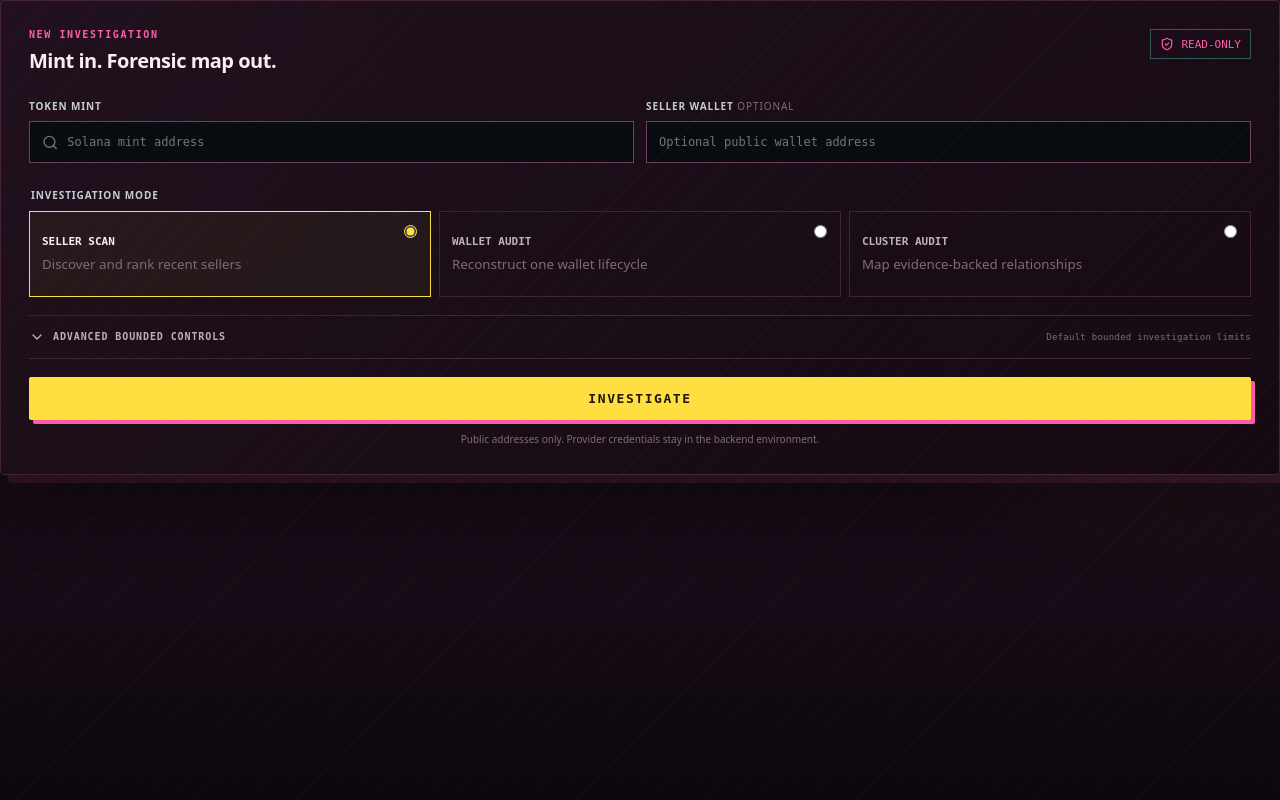
Test: investigation controls › keeps advanced limits collapsed and labels wallet input by mode
expect the text "Default bounded investigation limits" is shown: met, box [1046,333,1251,342]
Click the text "wallet audit" at (492, 242), box [452,235,532,248]
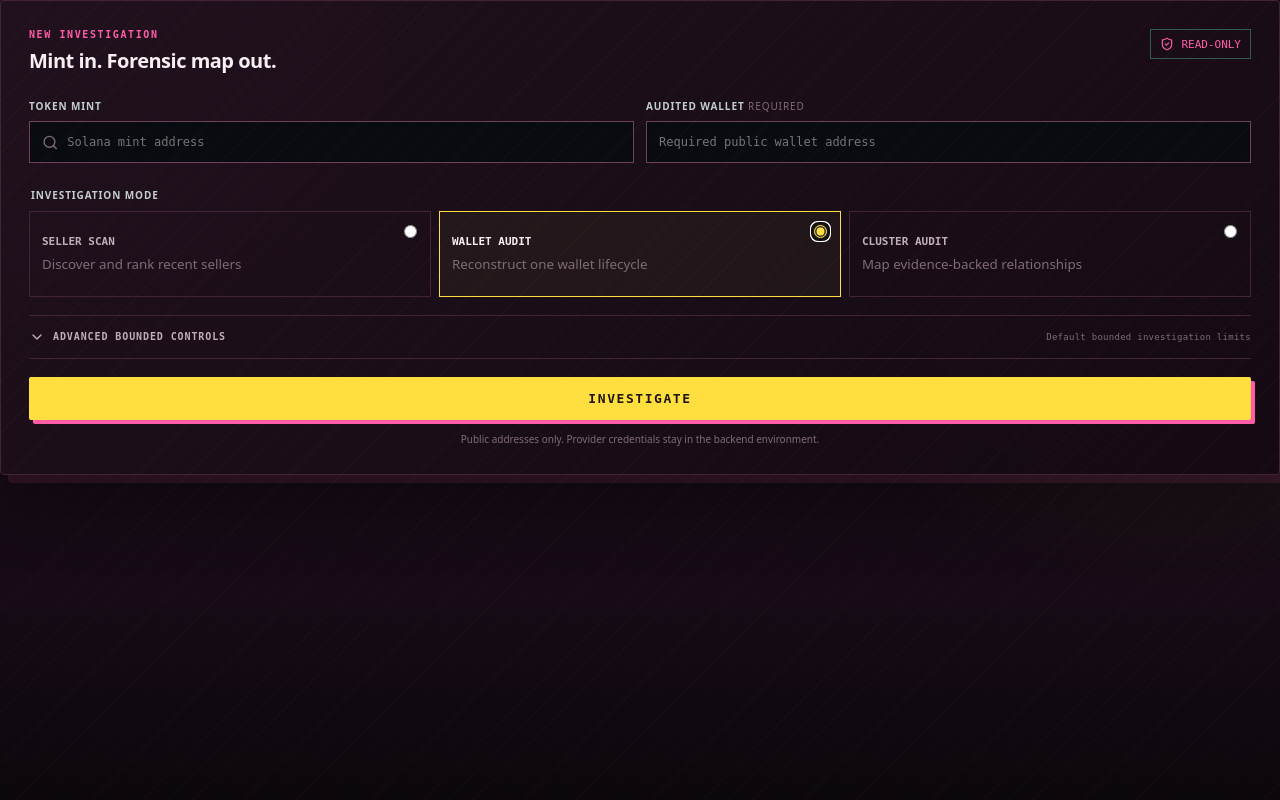
Click the text "cluster audit" at (905, 242), box [862,235,948,248]
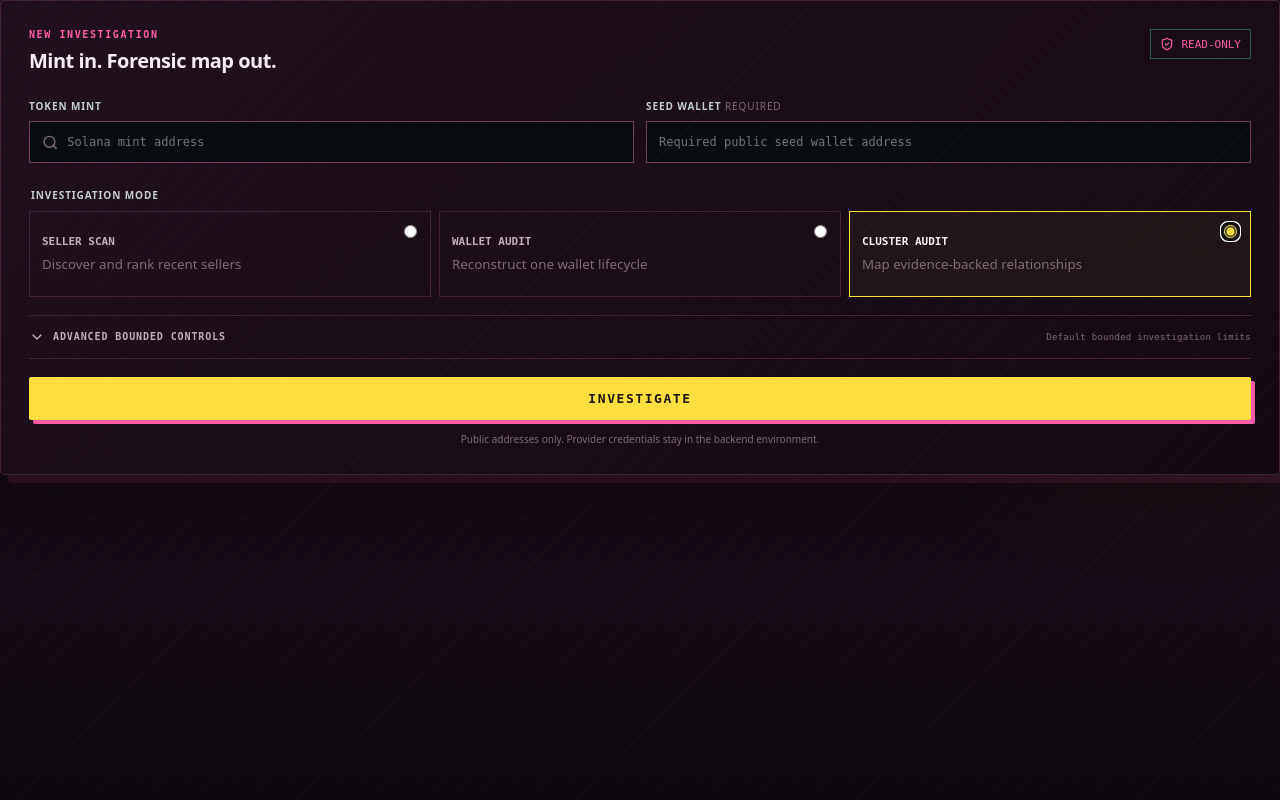
Click the text "Advanced bounded controls" at (128, 337), box [29,329,226,345]
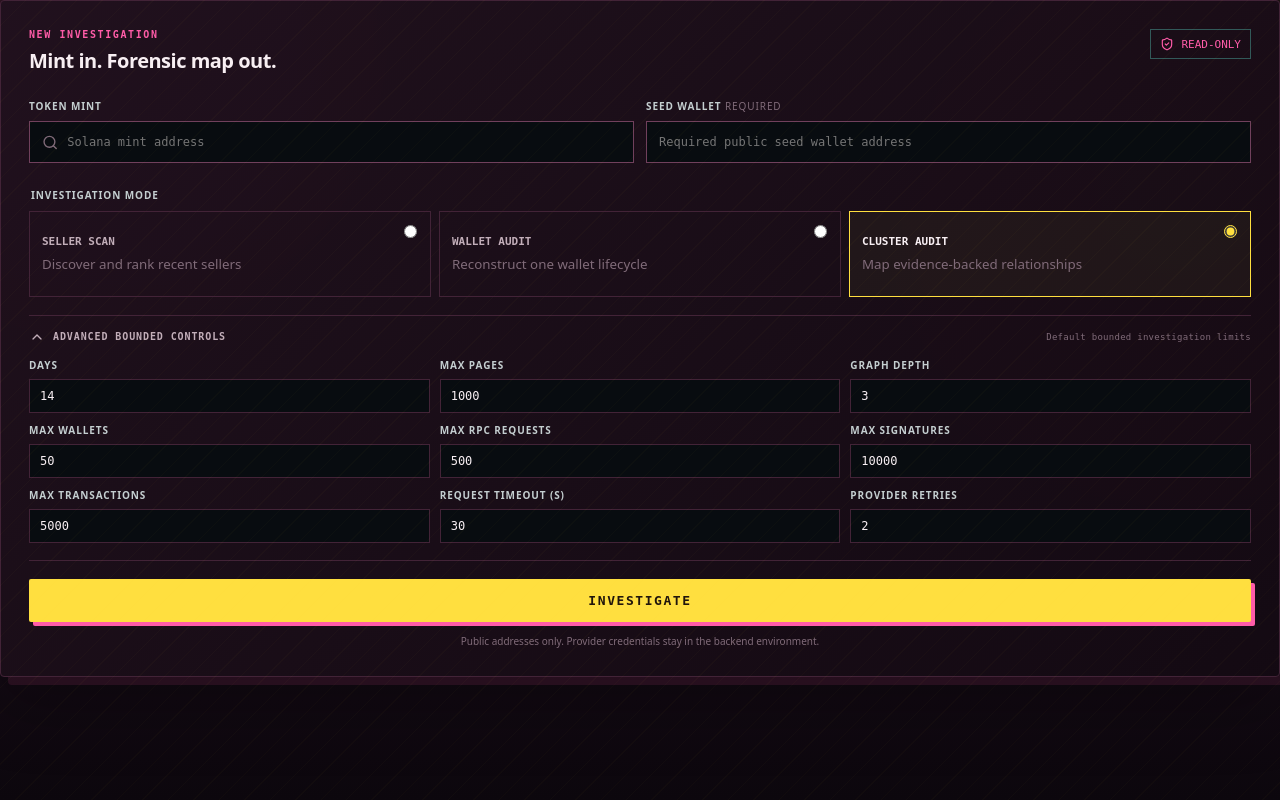
expect the number field labelled "Days" holds "14": met, box [29,379,430,413]
Type "11111111111111111111111111111111" into the field with placeholder "Solana mint address" at (344, 142), box [67,122,621,162]
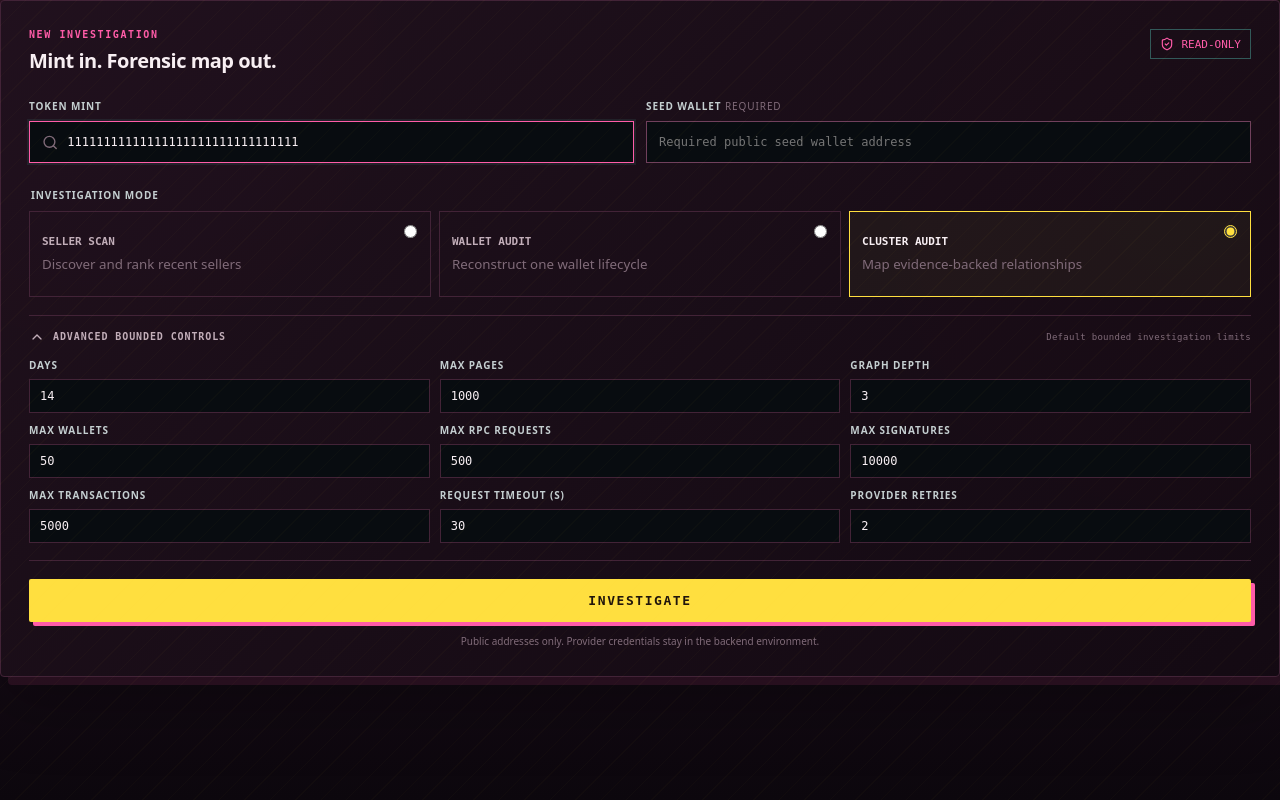
Click the button "INVESTIGATE" at (640, 601), box [29,579,1251,622]
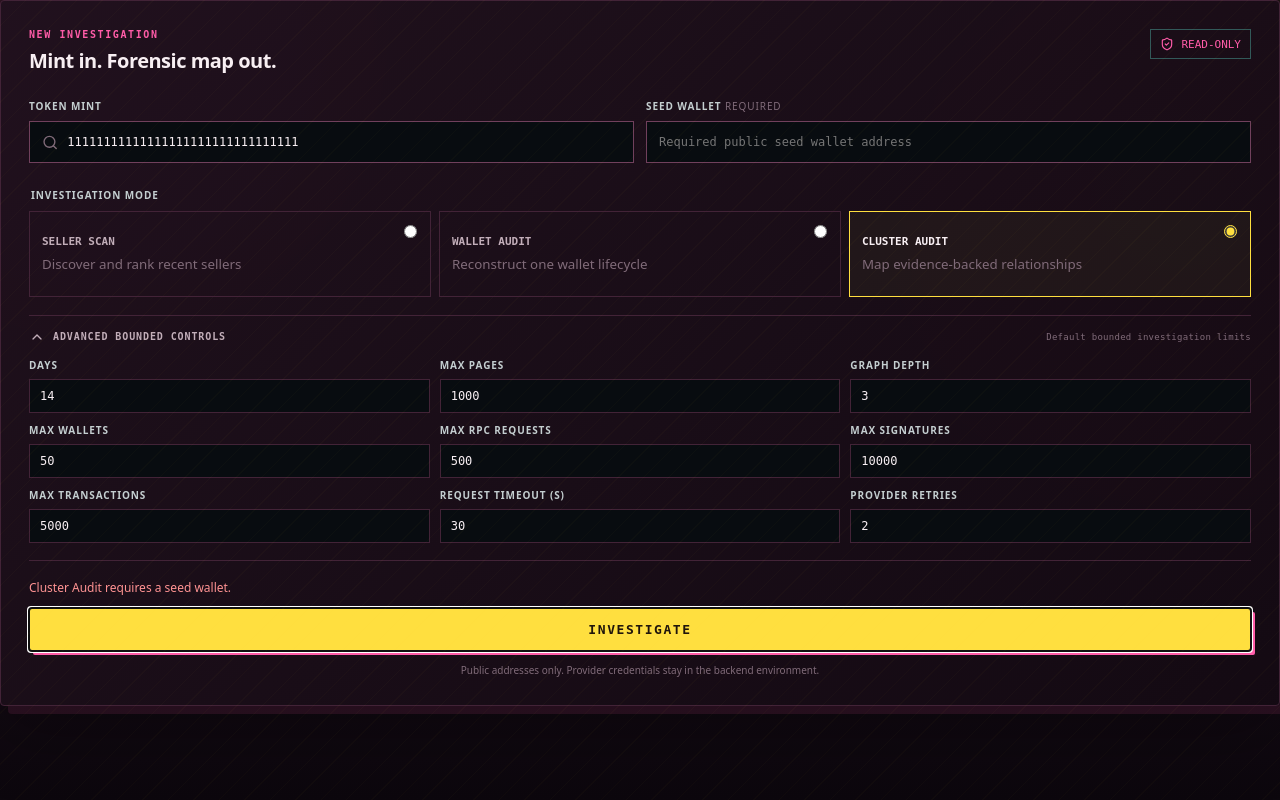
expect the message reads "Cluster Audit requires a seed wallet.": met, box [29,579,231,596]
